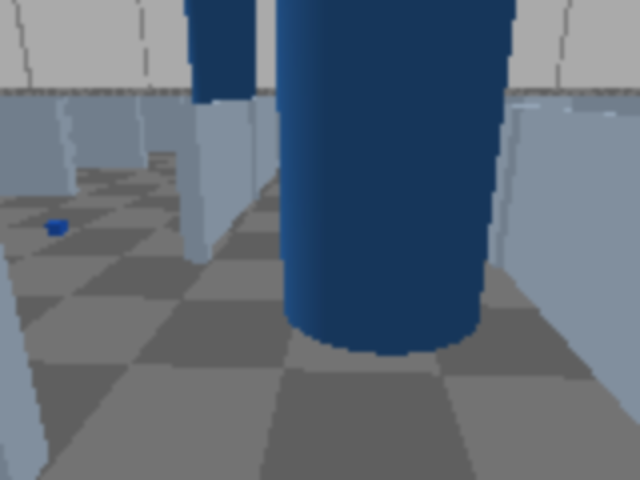puck: (45, 219, 68, 235)
